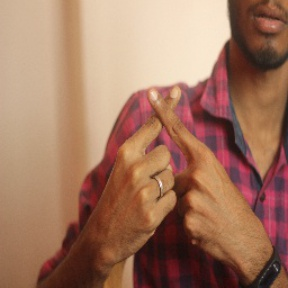X: (107, 76, 230, 182)
